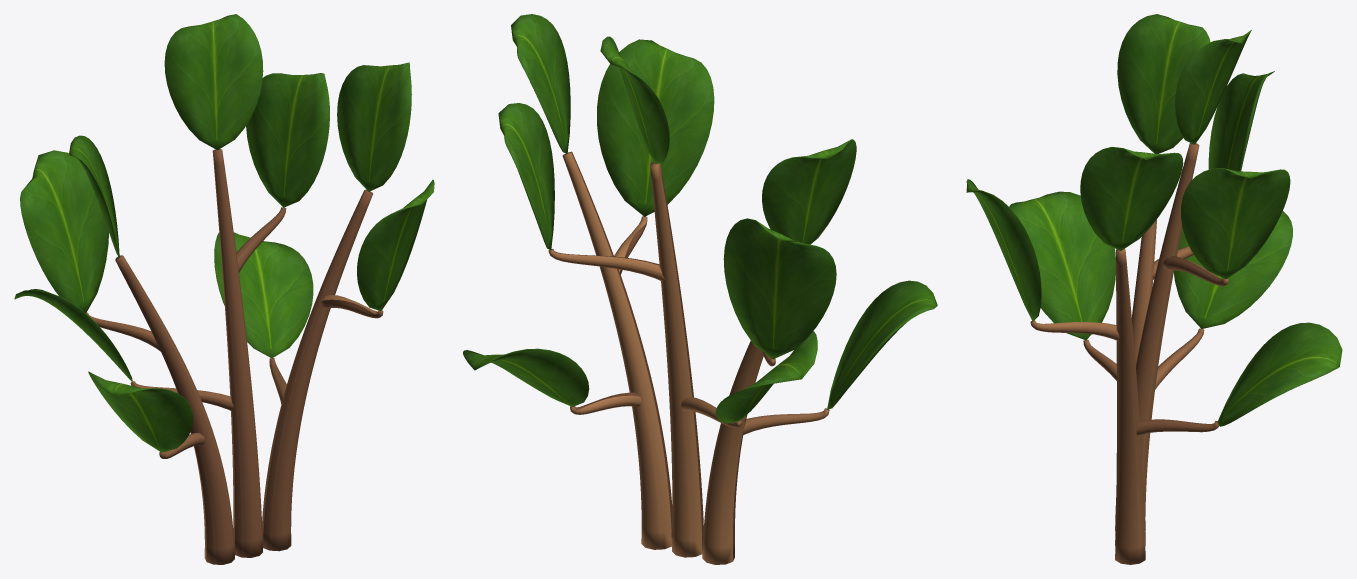
File: NP_Blueberry_Young.fbx
3 renders of one model, left to right at view 1: azimuth 30°, elevation 25°; view 2: azimuth 150°, elevation 25°; view 3: azimuth 270°, elevation 25°, orthographic. The views are drawn at different scales.
Parts seen in each view (by area): view 1: NP_Blueberry_Young; view 2: NP_Blueberry_Young; view 3: NP_Blueberry_Young.
Part boxes in pixels (x1,y1,x2,y2): NP_Blueberry_Young: (14, 14, 434, 564); NP_Blueberry_Young: (463, 14, 937, 564); NP_Blueberry_Young: (966, 14, 1342, 564).
Size of the model in its own units: 40.95 by 55.66 by 36.34.
